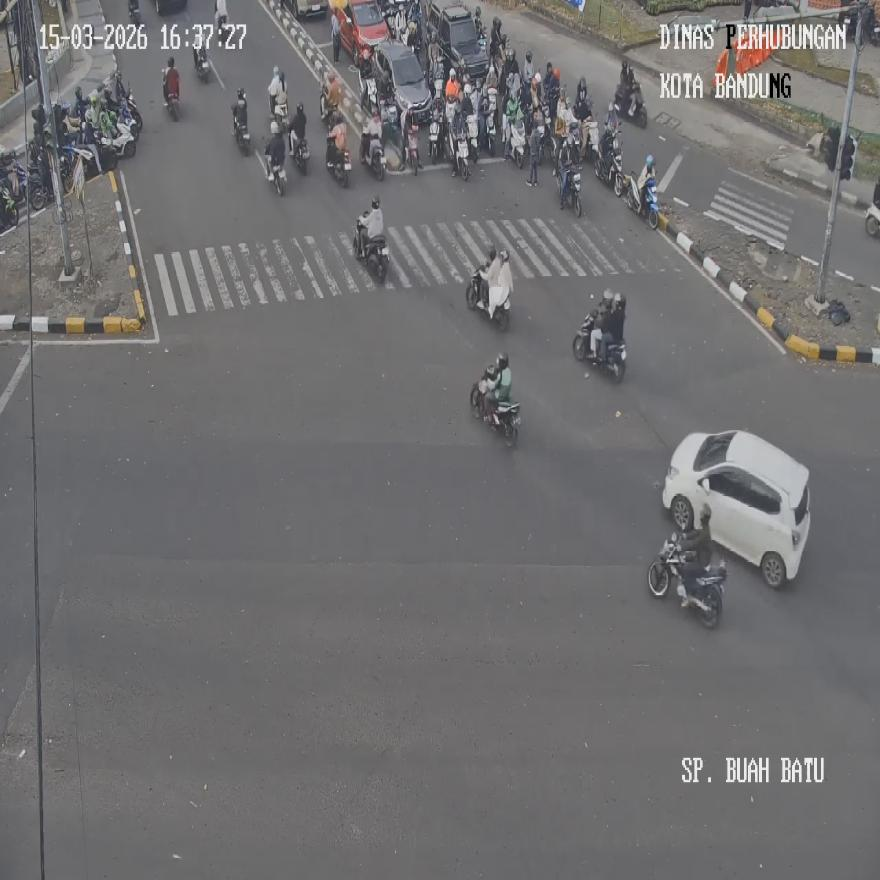Motor: (662, 429, 810, 587)
Truk: (648, 532, 726, 627), (470, 375, 520, 446), (573, 316, 626, 381), (466, 266, 511, 330), (354, 212, 388, 284), (612, 81, 646, 130), (556, 163, 581, 215), (595, 144, 621, 190), (361, 131, 386, 178), (328, 142, 352, 187), (640, 176, 660, 230), (264, 146, 285, 194), (506, 118, 526, 168), (287, 128, 309, 172), (474, 109, 494, 156), (404, 121, 421, 175), (232, 105, 250, 155), (452, 130, 470, 180), (580, 116, 598, 160), (162, 71, 179, 117), (271, 90, 289, 128), (428, 115, 441, 165), (194, 44, 210, 82), (865, 201, 880, 237), (215, 13, 231, 46), (128, 0, 142, 24)
